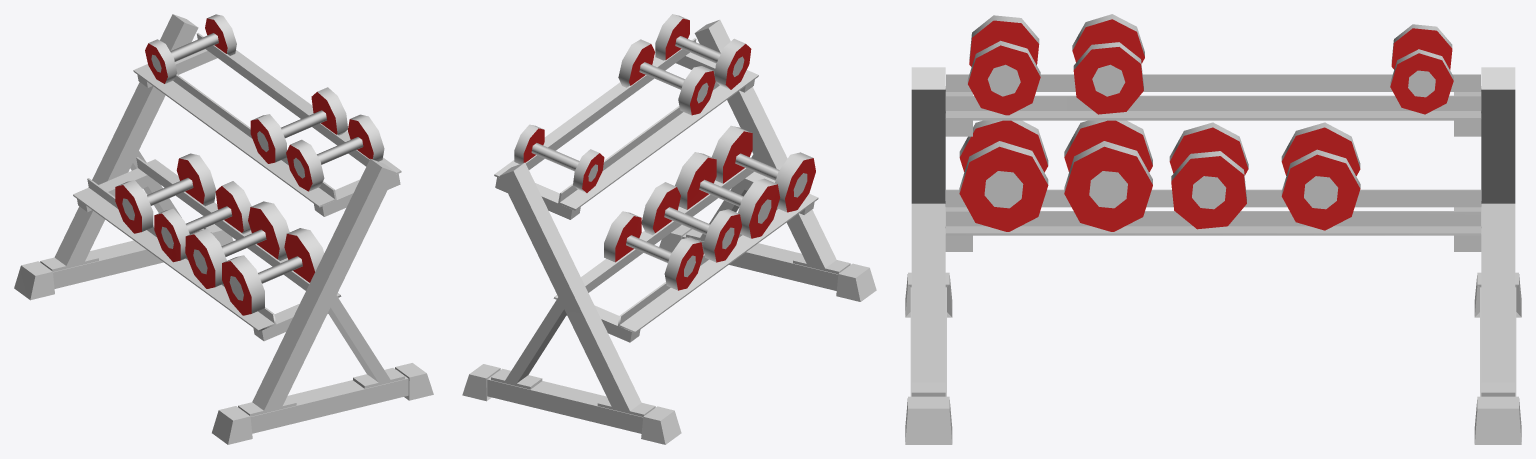
The model's file is SM_M_Government_Office_DumbBellRack_01_ATLAS.fbx.
3 renders of one model, left to right at view 1: azimuth 30°, elevation 25°; view 2: azimuth 150°, elevation 25°; view 3: azimuth 270°, elevation 25°, orthographic. The views are drawn at different scales.
Parts seen in each view (by area): view 1: SM_M_Government_Office_DumbBellRack_01_ATLAS; view 2: SM_M_Government_Office_DumbBellRack_01_ATLAS; view 3: SM_M_Government_Office_DumbBellRack_01_ATLAS.
Boxes of the visible parts, x1,y1,x2,y2 form: SM_M_Government_Office_DumbBellRack_01_ATLAS: (14,14,433,444); SM_M_Government_Office_DumbBellRack_01_ATLAS: (462,14,876,444); SM_M_Government_Office_DumbBellRack_01_ATLAS: (905,14,1521,444).
Bounding box in the file's own units: 75.82 × 136 × 92.08.
